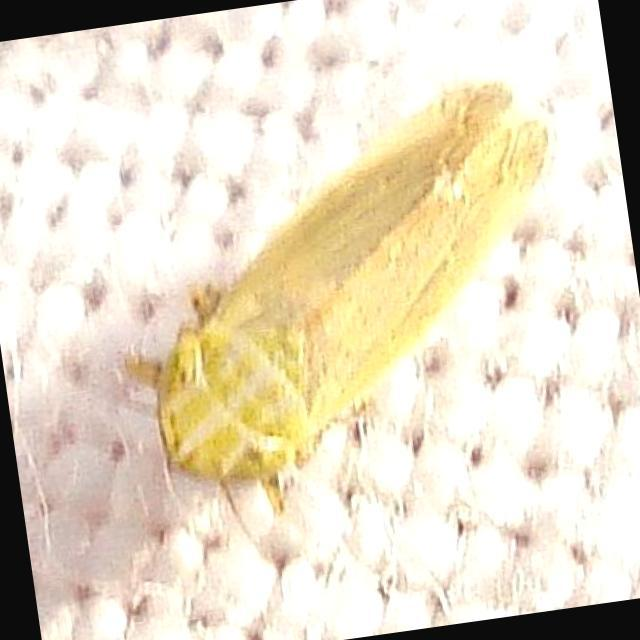green leaf hopper: (128, 83, 547, 510)
